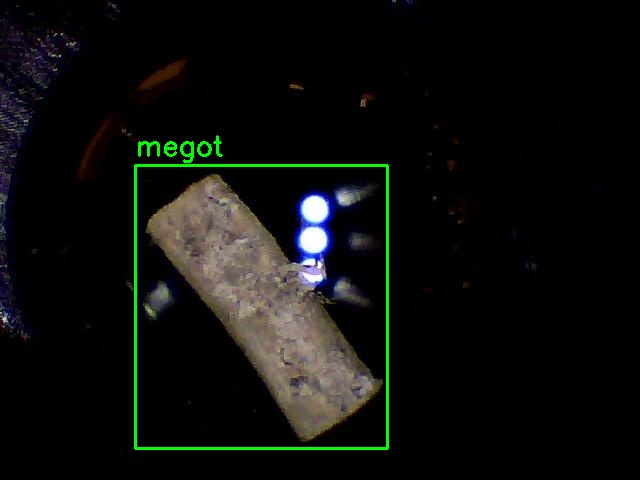megot: (135, 165, 387, 448)
